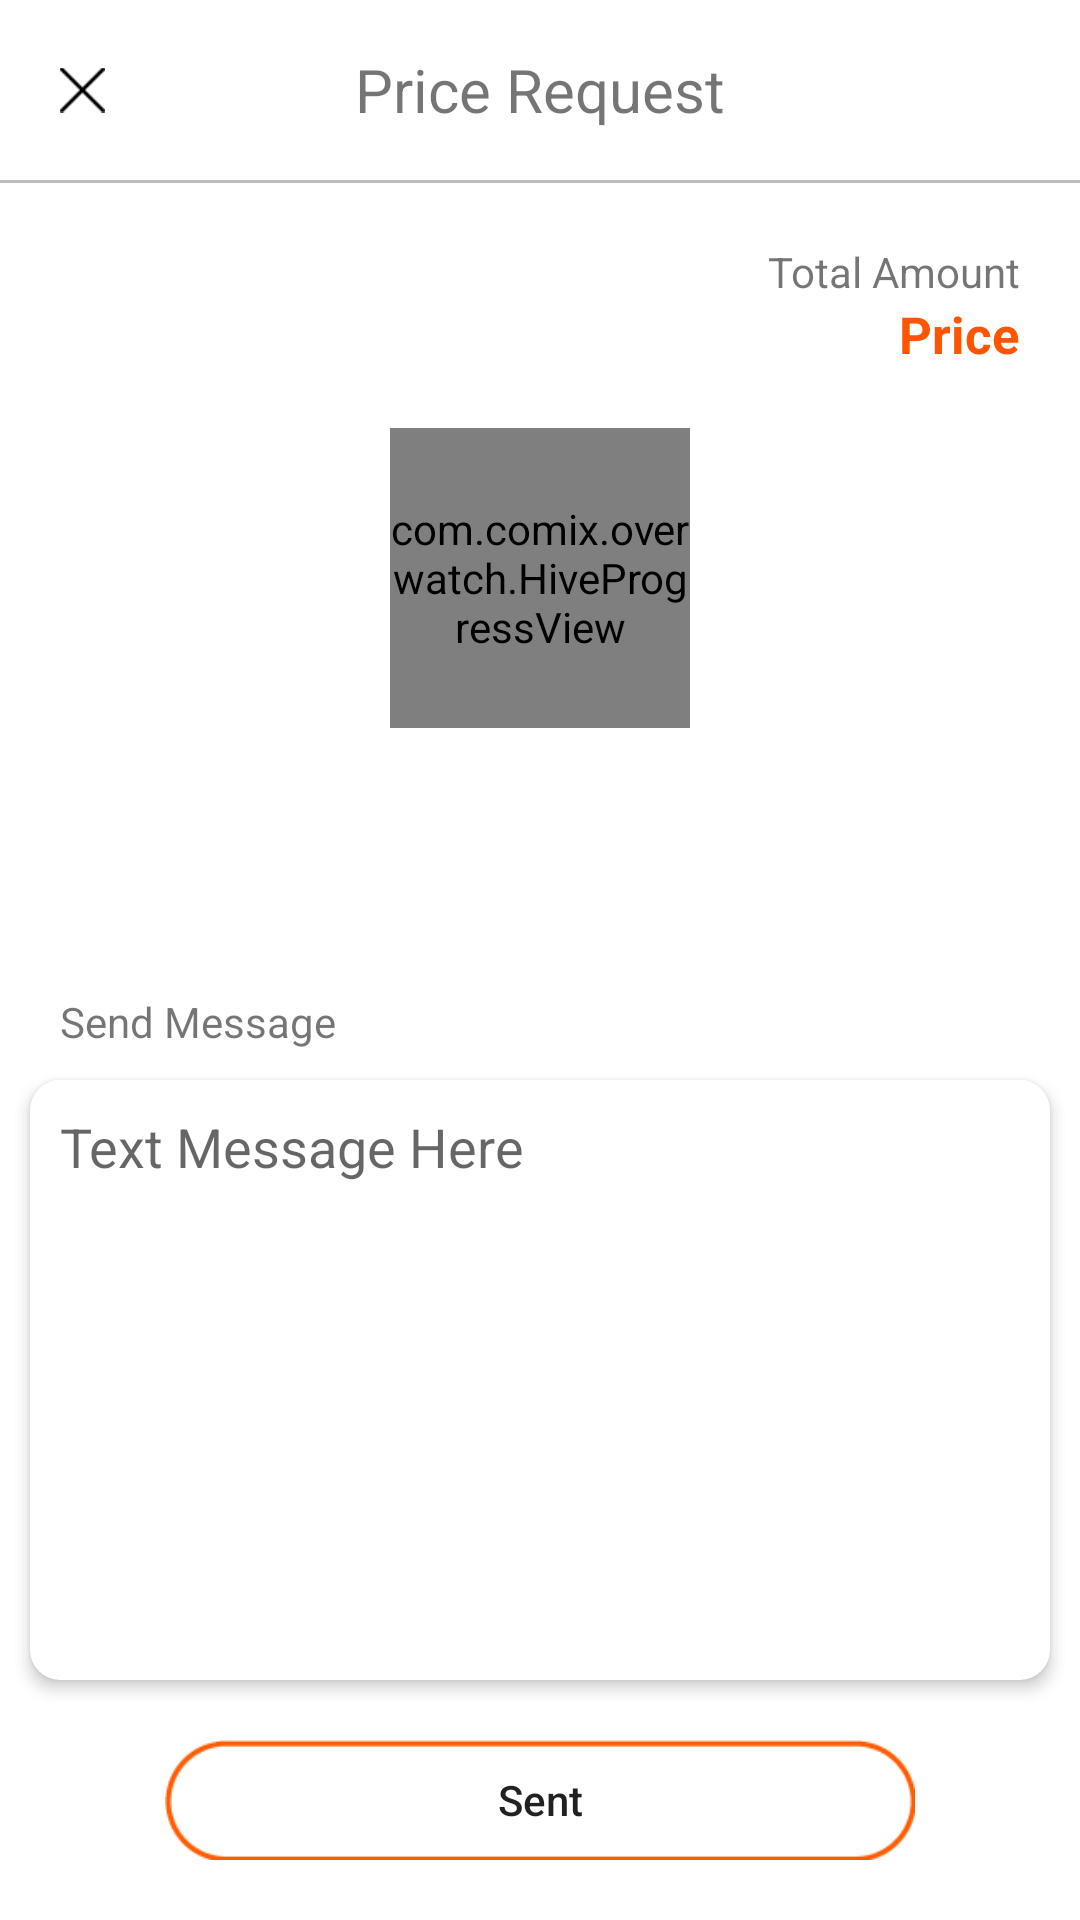

Locate icon controls on the screen. Image size 1080×1920, boxes as [x1,y1,x2,y2].
close: [60,68,105,113]
